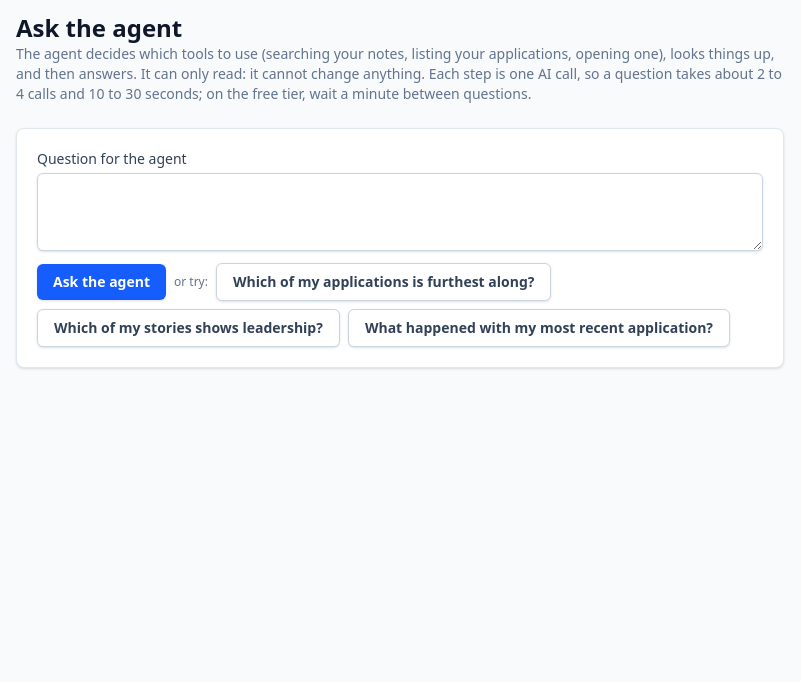
it: AgentPage › shows the answer and the step trace
Type "Which application is furthest along?" into the text box labelled "Question for the agent" at (400, 212), box [37,173,763,251]
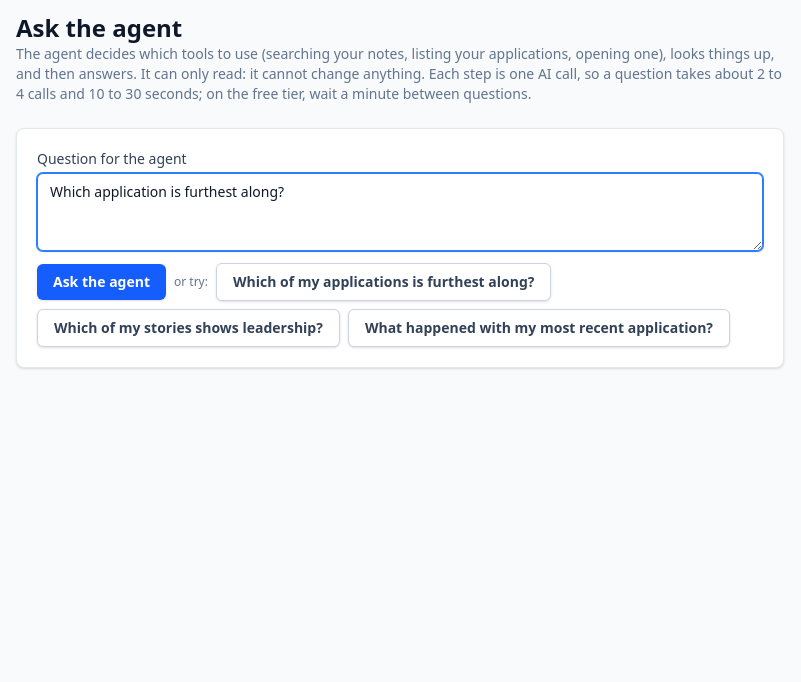
Click the button "Ask the agent" at (102, 282), box [37,264,166,300]
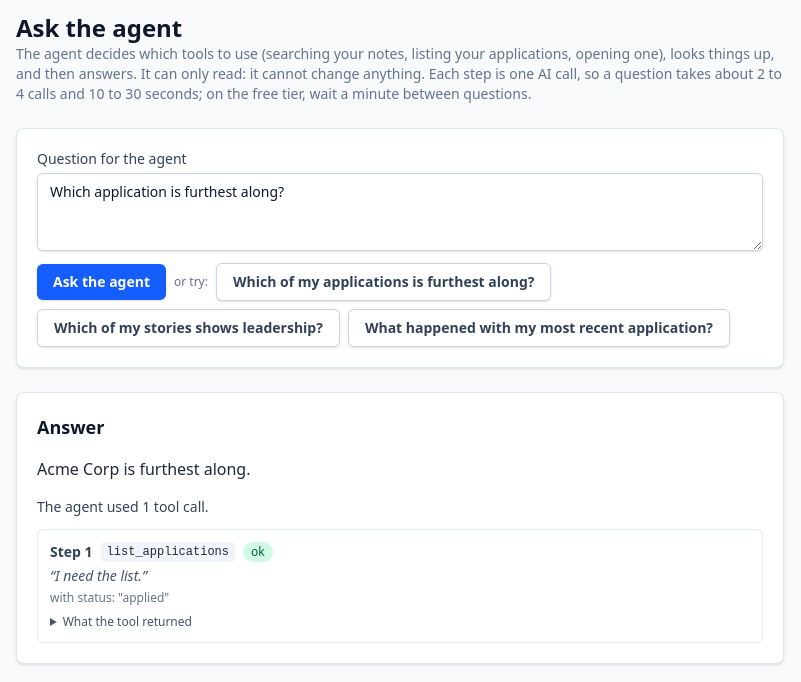
Now the text "Acme Corp is furthest along." is shown, box [37,458,250,480]
Now the text "list_applications" is shown, box [101,542,235,562]
